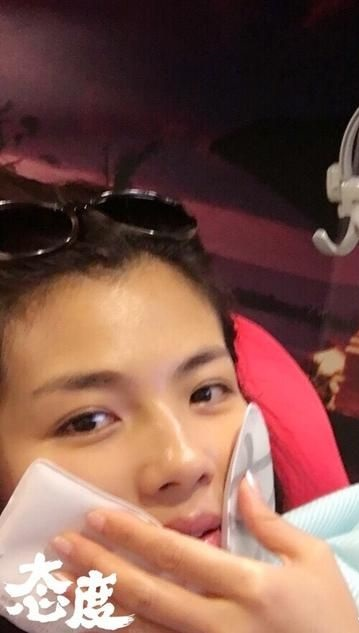face_mask: (10, 269, 264, 589)
